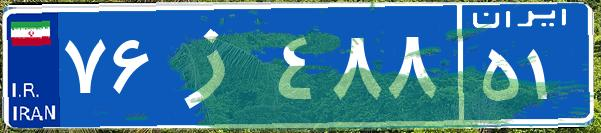1: (525, 38, 570, 115)
4: (273, 28, 330, 110)
5: (475, 38, 525, 113)
6: (110, 28, 158, 105)
7: (57, 26, 110, 107)
8: (385, 28, 445, 110), (330, 28, 385, 110)
ز: (158, 15, 273, 115)
